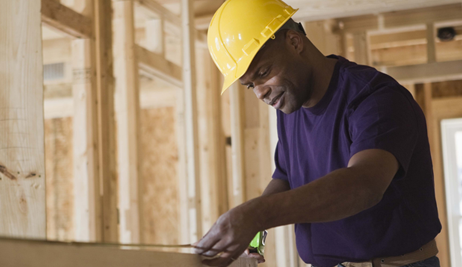jacket: (201, 1, 301, 93)
